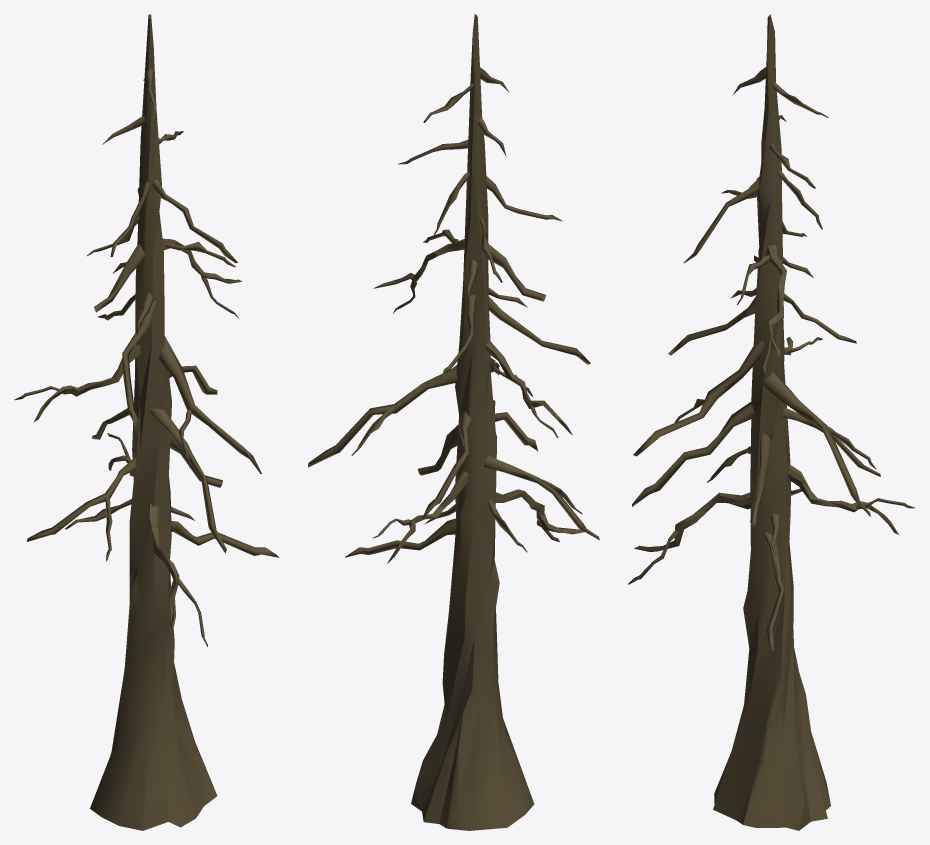
The model's file is Tree_Old_04.fbx.
3 views of the same model, side by side, from view 1: azimuth 30°, elevation 25°; view 2: azimuth 150°, elevation 25°; view 3: azimuth 270°, elevation 25° (orthographic).
Parts seen in each view (by area): view 1: polySurface42; view 2: polySurface42; view 3: polySurface42.
Boxes of the visible parts, x1=… form: polySurface42: x1=14, y1=14, x2=279, y2=830; polySurface42: x1=308, y1=14, x2=599, y2=830; polySurface42: x1=628, y1=14, x2=915, y2=830.
Bounding box in the file's own units: 533 × 1589 × 522.
